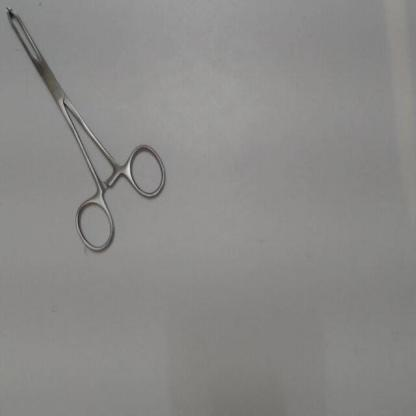Allis Tissue Forceps: (2, 0, 175, 263)
